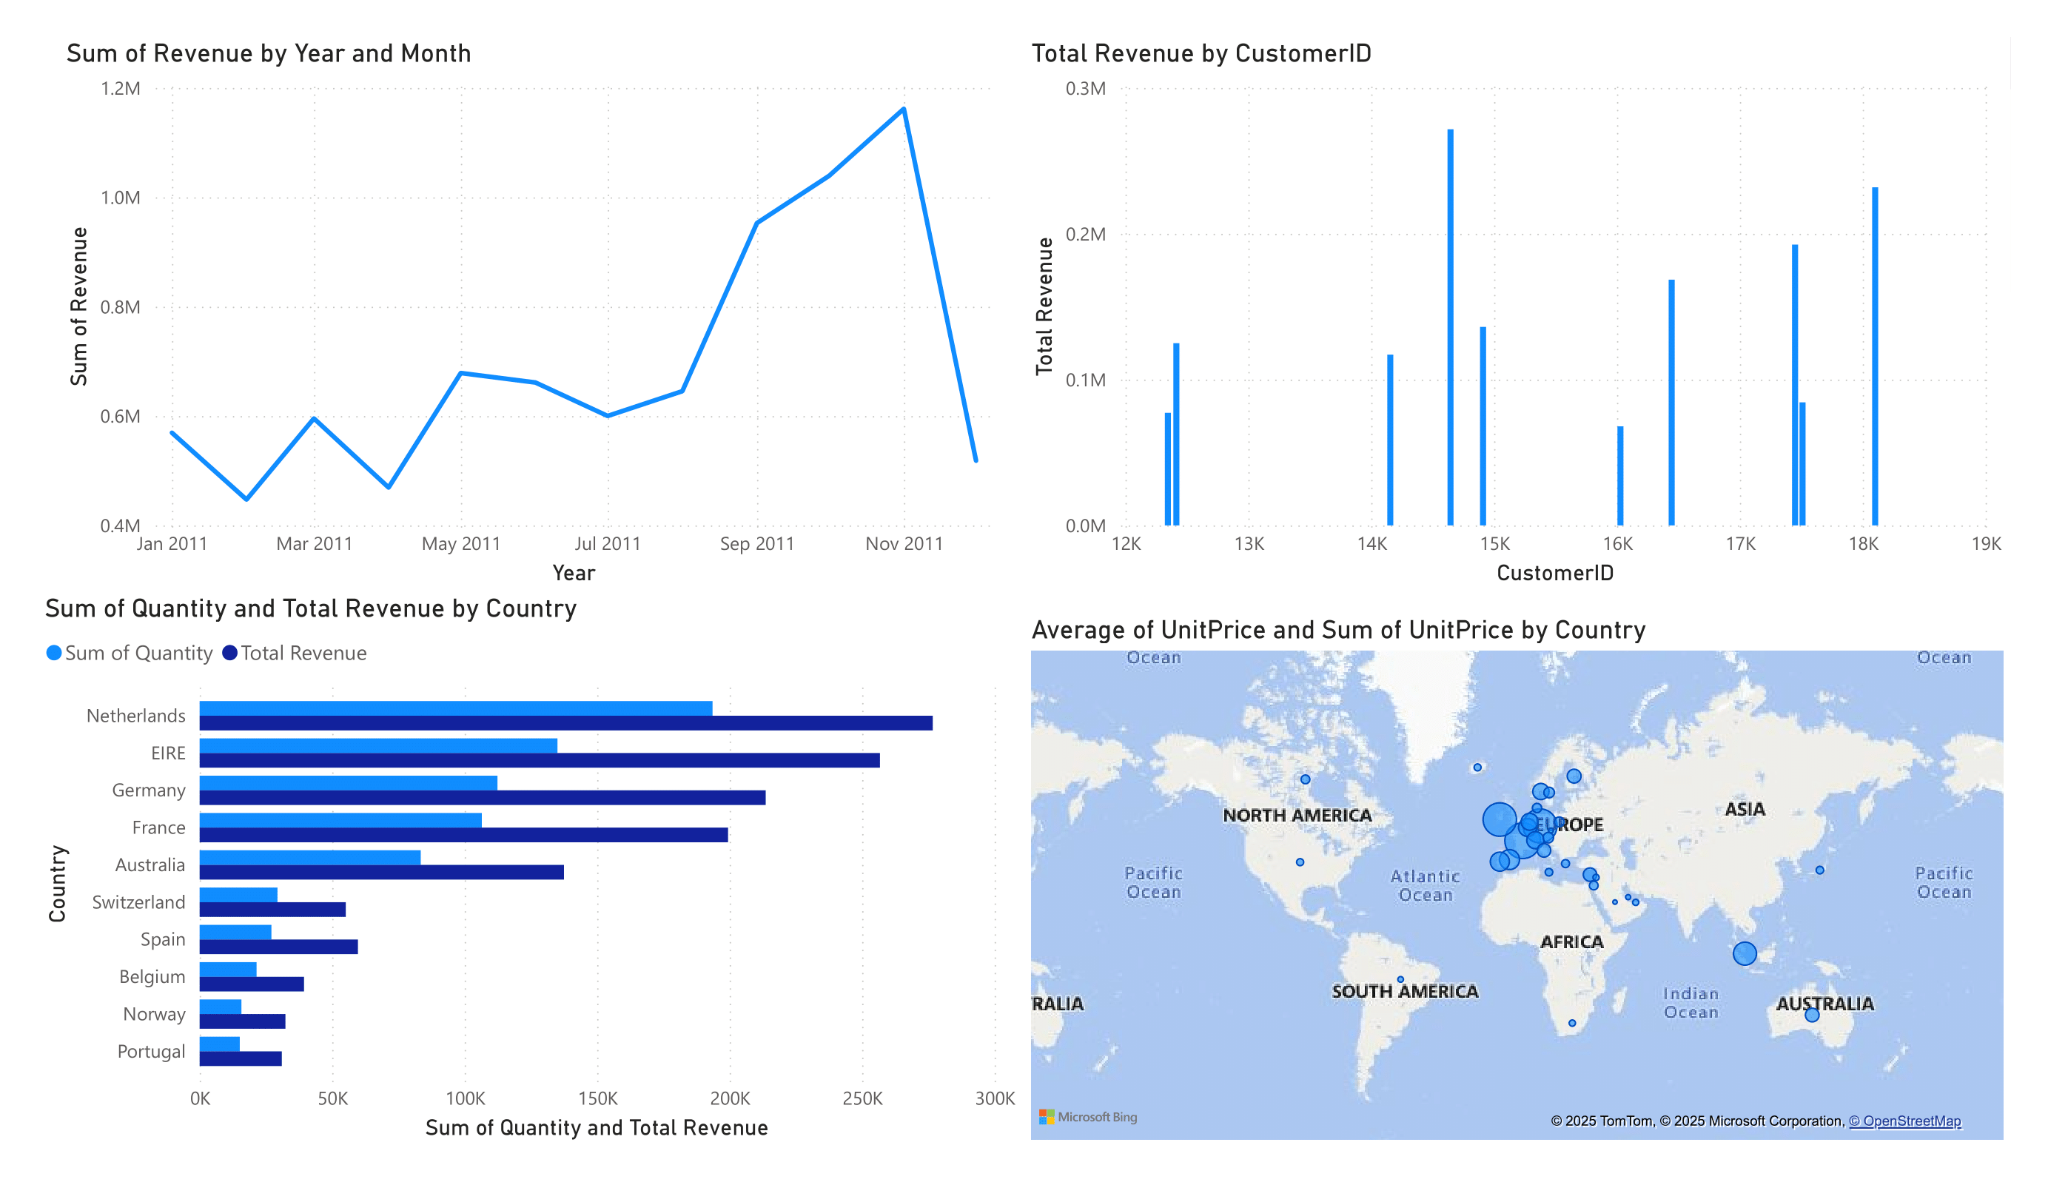

What the dashboard file says about the page in this screenshot:
{"tool":"powerbi","page":{"name":"Page 5","canvas":[1280,720],"ordinal":4},"visuals":[{"type":"lineChart","fields":{"Y":["Sum(Online Retail.Revenue)"],"Category":["Online Retail (2).InvoiceDate.Variation.Date Hierarchy.Year","Online Retail (2).InvoiceDate.Variation.Date Hierarchy.Month"]},"box":[14,0,626,360],"z":0},{"type":"clusteredBarChart","fields":{"Category":["Online Retail (2).Country"],"Y":["Sum(Online Retail (2).Quantity)","Online Retail.Total Revenue"]},"box":[0,360,640,360],"z":1000},{"type":"columnChart","fields":{"Category":["Online Retail.CustomerID"],"Y":["Online Retail.total revenue"]},"box":[640,0,640,360],"z":2000},{"type":"map","fields":{"Category":["Online Retail (2).Country"],"Y":["Avg(Online Retail (2).UnitPrice)"],"Size":["Sum(Online Retail (2).UnitPrice)"]},"box":[640,374,640,346],"z":3000}]}

Visuals, with their boxes in screenshot pixels (x1, y1, x2, y2), scaled from the page's 1280x720 canvas onto the 2048x1184 screenshot:
lineChart - Sum(Online Retail.Revenue) x Online Retail (2).InvoiceDate.Variation.Date Hierarchy.Year: crop(22, 0, 1024, 592)
clusteredBarChart - Online Retail (2).Country x Sum(Online Retail (2).Quantity): crop(0, 592, 1024, 1183)
columnChart - Online Retail.CustomerID x Online Retail.total revenue: crop(1024, 0, 2047, 592)
map - Online Retail (2).Country x Avg(Online Retail (2).UnitPrice): crop(1024, 615, 2047, 1183)
